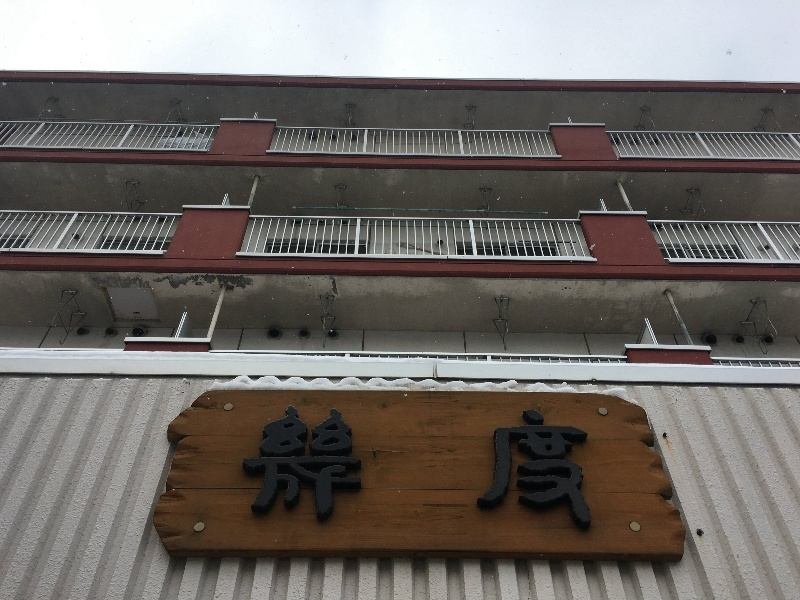text: (257, 404, 272, 526), (273, 404, 288, 526), (289, 404, 304, 526), (305, 404, 320, 526), (321, 404, 336, 526), (337, 404, 352, 526), (353, 404, 368, 526), (369, 404, 384, 526), (385, 404, 400, 526), (401, 404, 416, 526), (417, 404, 432, 526), (433, 404, 448, 526), (449, 404, 464, 526), (465, 404, 480, 526), (481, 404, 496, 526), (497, 404, 512, 526), (513, 404, 528, 526), (529, 404, 544, 526), (545, 404, 560, 526), (561, 404, 576, 526), (577, 404, 592, 526), (248, 404, 256, 526)
